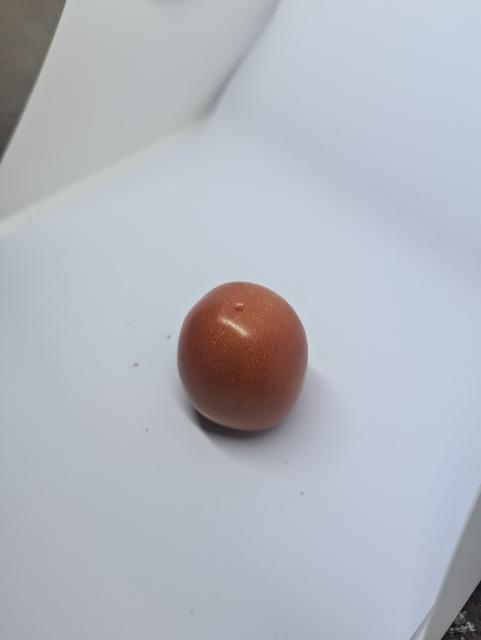red: (174, 279, 311, 436)
